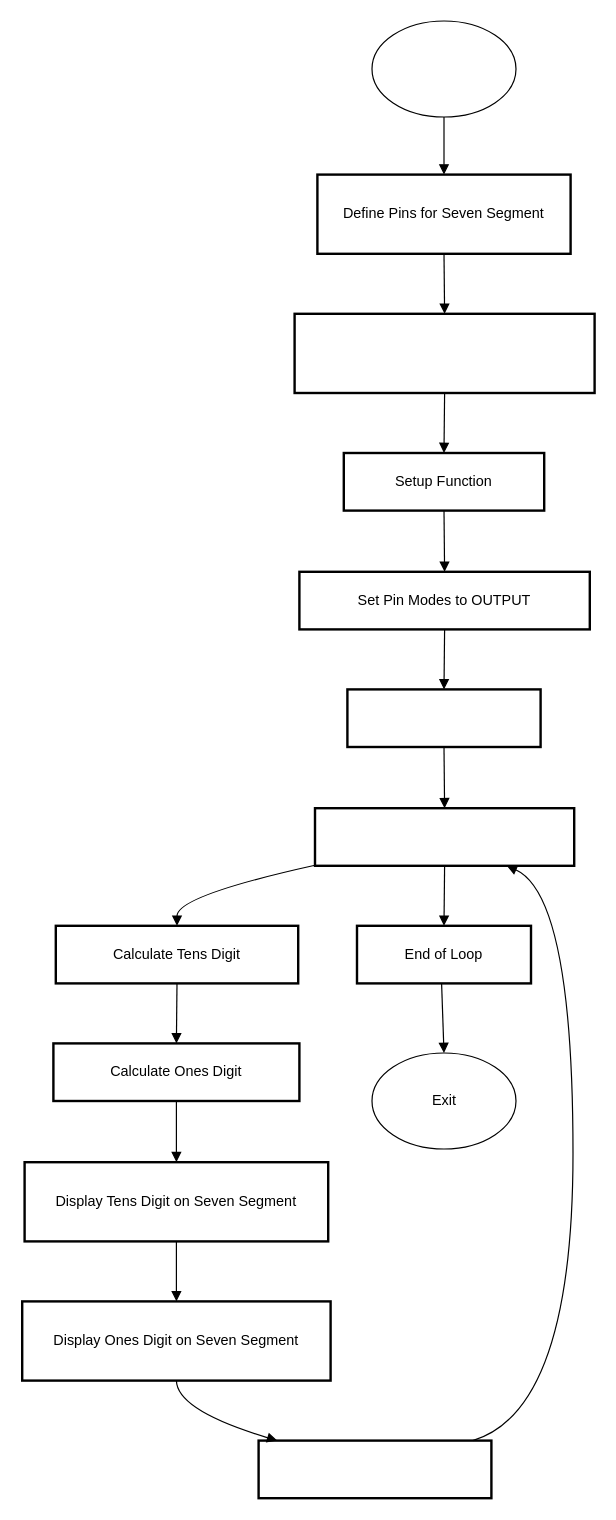
Some shapes in this 616 by 1520 pixel diagram are drawn without their labels. The centre of each missing label's shape, as x and y in pixels:
"Define Binary Numbers for 0-9" goes at [444,353].
"Delay for 1 Second" goes at [374,1469].
"For Loop from 20 to 0" goes at [444,836].
"Loop Function" goes at [443,718].
"Start" goes at [443,68].
